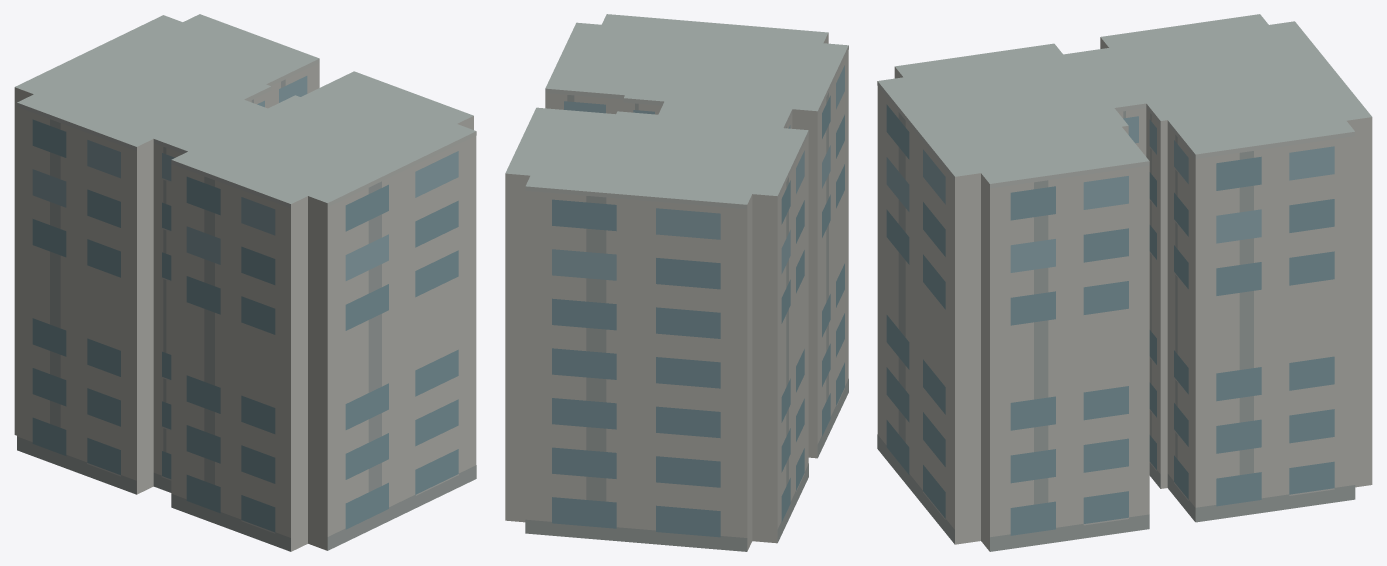
Rendered from survey-upis-32786956.glb.
3 views of the same model, side by side, from view 1: azimuth 30°, elevation 25°; view 2: azimuth 150°, elevation 25°; view 3: azimuth 270°, elevation 25° (orthographic). The views are drawn at different scales.
Parts seen in each view (by area): view 1: survey-upis-32786956.tmp; view 2: survey-upis-32786956.tmp; view 3: survey-upis-32786956.tmp.
Boxes of the visible parts, left/top/right/bottom form: survey-upis-32786956.tmp: left=14, top=14, right=476, bottom=551; survey-upis-32786956.tmp: left=505, top=14, right=848, bottom=551; survey-upis-32786956.tmp: left=877, top=14, right=1372, bottom=551.
Size of the model in its own units: 19.14 by 19.3 by 23.54.
